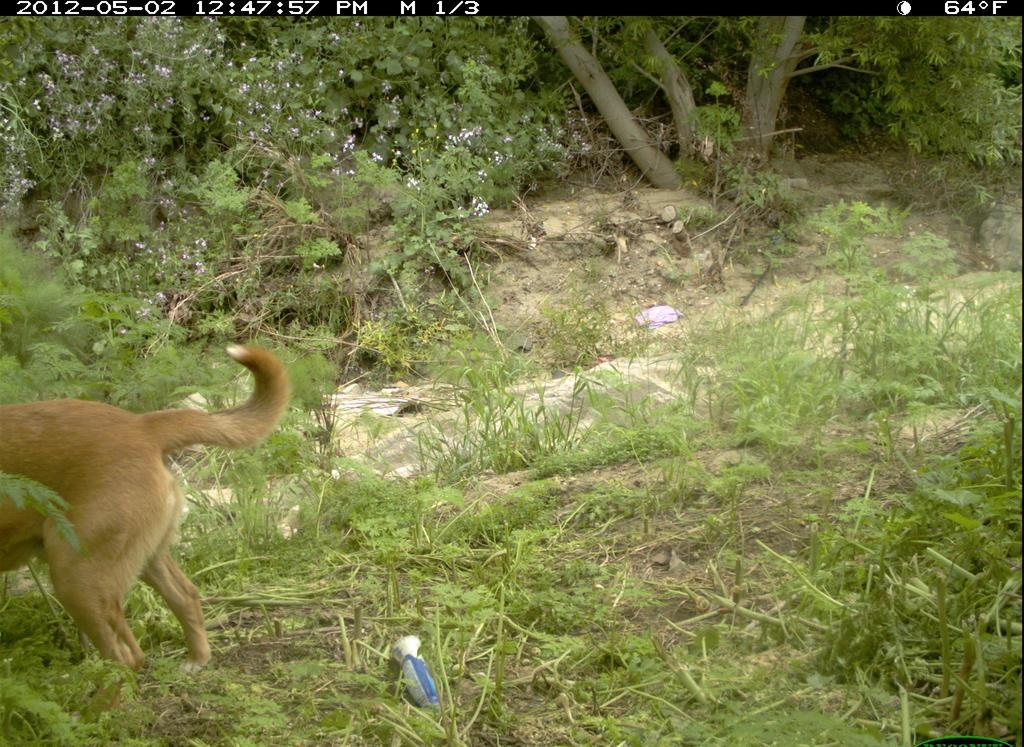dog: (4, 340, 292, 669)
